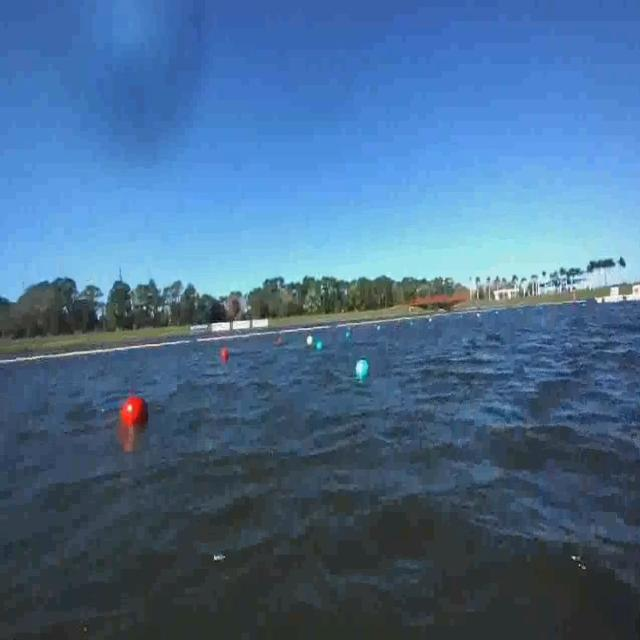green-buoy: (356, 358, 368, 378), (314, 338, 324, 354)
red-buoy: (123, 398, 149, 430)
red-column-buoy: (222, 348, 228, 362)
